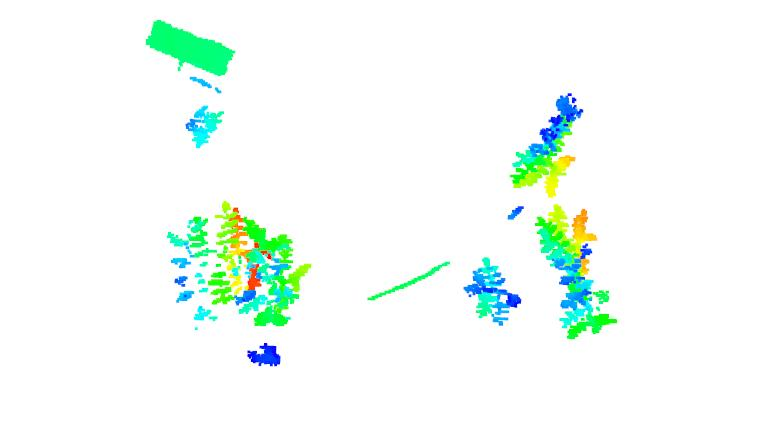chickpea: (160, 200, 257, 323), (534, 205, 620, 340), (511, 88, 590, 190), (242, 221, 312, 327), (468, 260, 528, 328), (182, 104, 224, 150), (247, 341, 284, 367)
